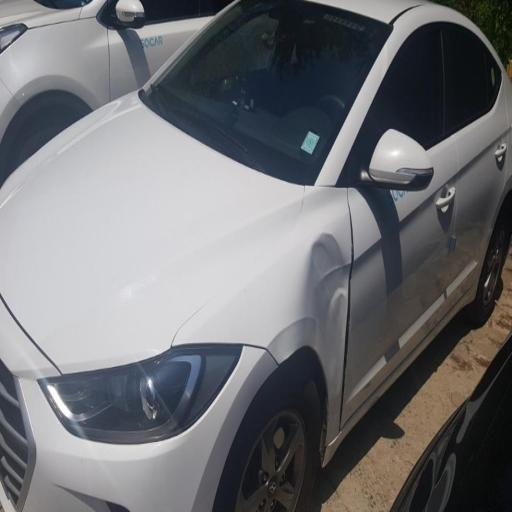broken: (336, 181, 379, 432)
dent: (290, 200, 342, 408)
